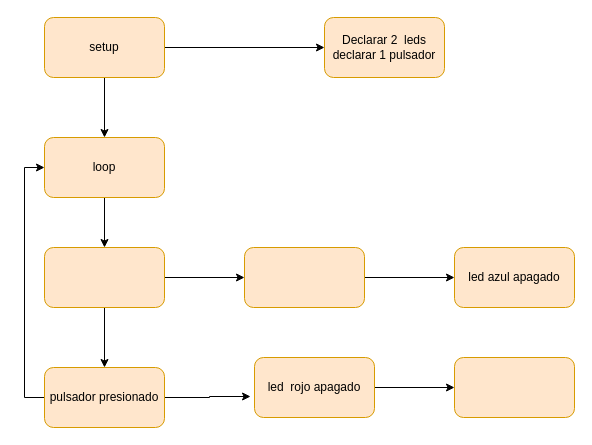
Image size: 592x445. Some labels were removed from this diagram. The shapes that lost their labels are listed below. From the top down, each one's centre as x and y in pixels, then its label:
At point 104,277: "pulsador sin presionar".
At point 304,277: "led rojo prendido".
At point 514,387: "led azul prendido".
